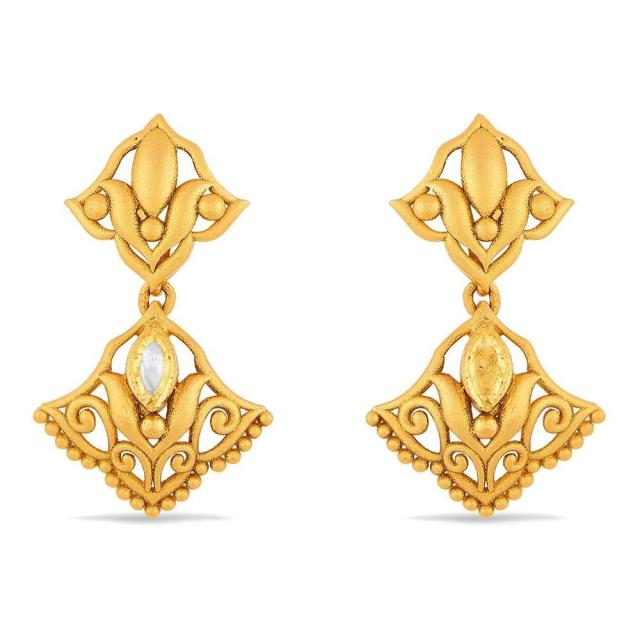missing gem: (468, 331, 505, 406)
